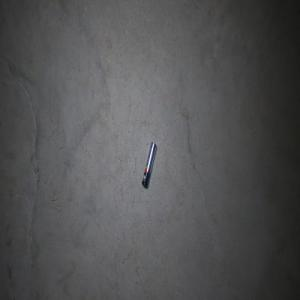Battery: (141, 141, 156, 188)
